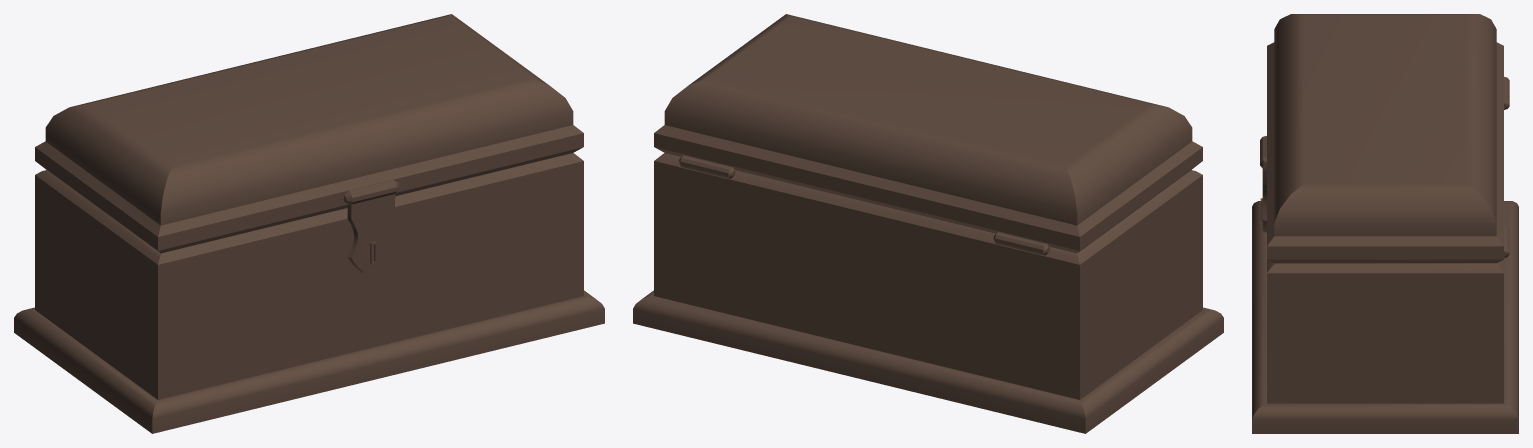
The model's file is Chest.fbx.
3 renders of one model, left to right at view 1: azimuth 30°, elevation 25°; view 2: azimuth 150°, elevation 25°; view 3: azimuth 270°, elevation 25°, orthographic. The views are drawn at different scales.
Visible parts, largest first — view 1: m_chest, m_chest_lid, m_chest_lock; view 2: m_chest, m_chest_lid, m_chest_hinges; view 3: m_chest_lid, m_chest, m_chest_lock, m_chest_hinges.
Part boxes in pixels (x1,y1,x2,y2): m_chest: [14, 153, 604, 433]; m_chest_lid: [35, 14, 583, 253]; m_chest_lock: [344, 180, 399, 272]; m_chest: [633, 153, 1223, 433]; m_chest_lid: [654, 14, 1202, 253]; m_chest_hinges: [679, 155, 1049, 255]; m_chest_lid: [1267, 14, 1503, 263]; m_chest: [1252, 201, 1518, 433]; m_chest_lock: [1260, 136, 1266, 232]; m_chest_hinges: [1504, 76, 1509, 257].
Bounding box in the file's own units: 17 × 8.5 × 9.
